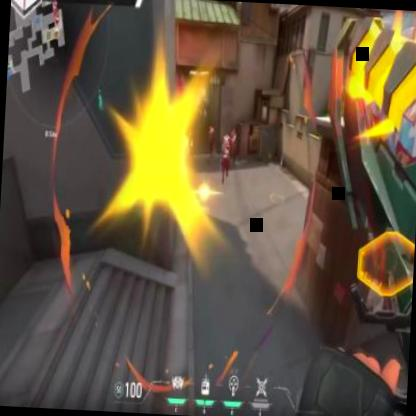enemy: (218, 133, 230, 187), (226, 126, 237, 164), (206, 122, 216, 158)
enemy_head: (223, 134, 229, 142), (232, 126, 235, 134), (210, 124, 213, 129)
